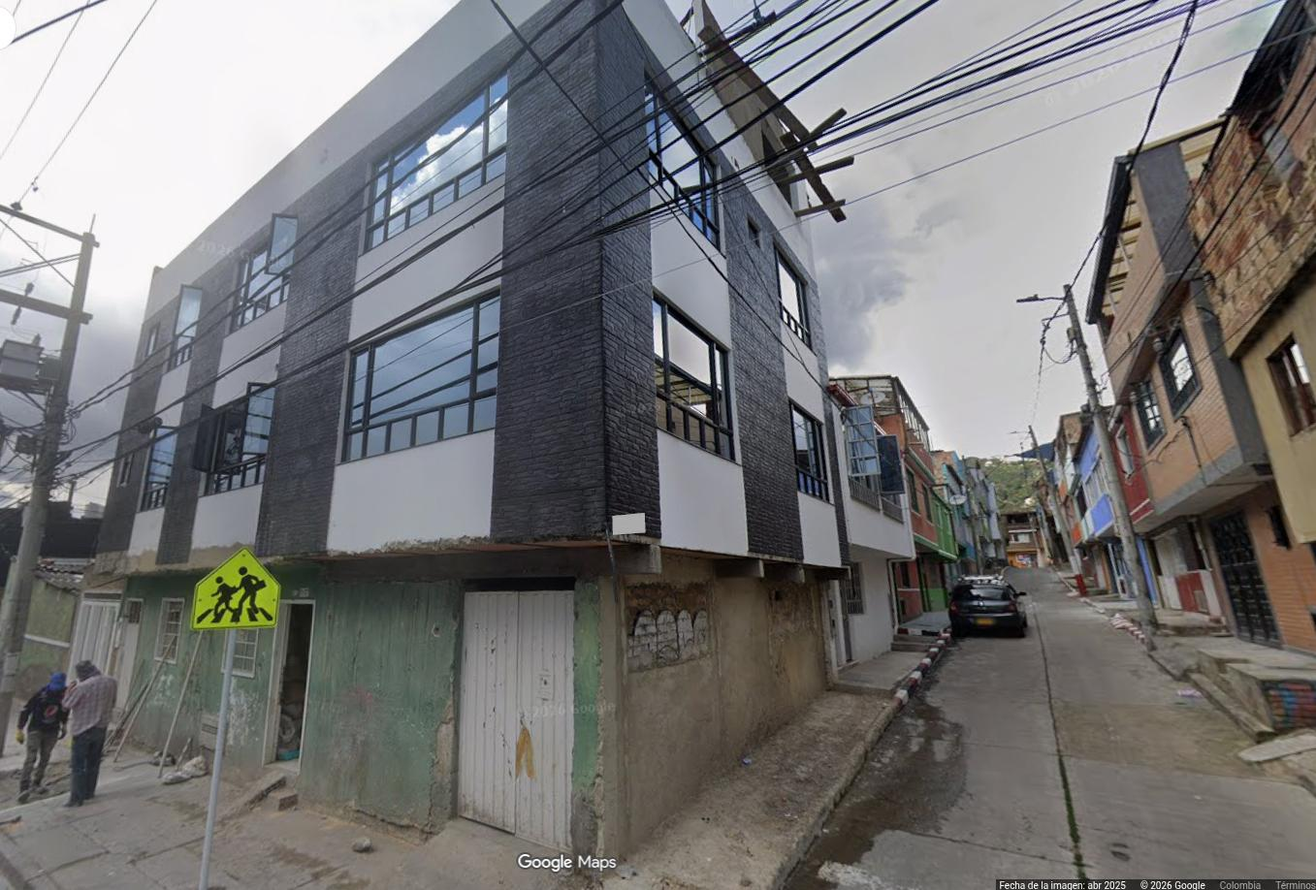casa: (93, 0, 850, 854), (1083, 117, 1315, 646), (832, 430, 914, 668)
poste: (1016, 284, 1156, 651), (0, 207, 97, 720), (0, 348, 40, 390)
